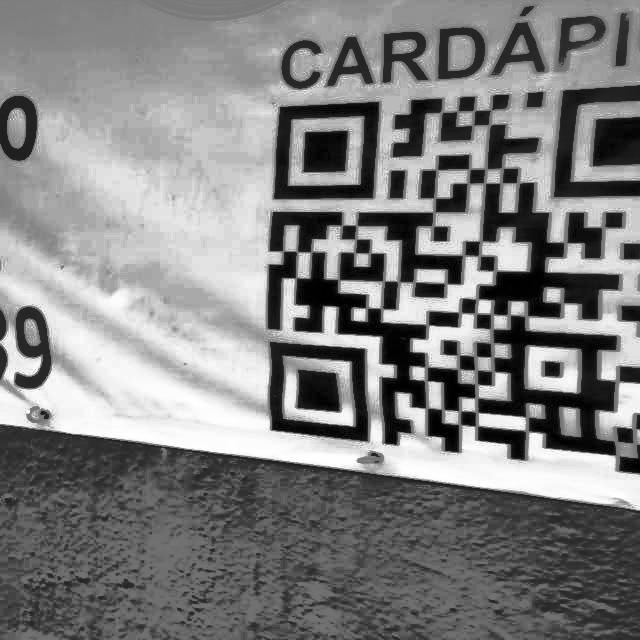qr_code: (266, 86, 640, 473)
